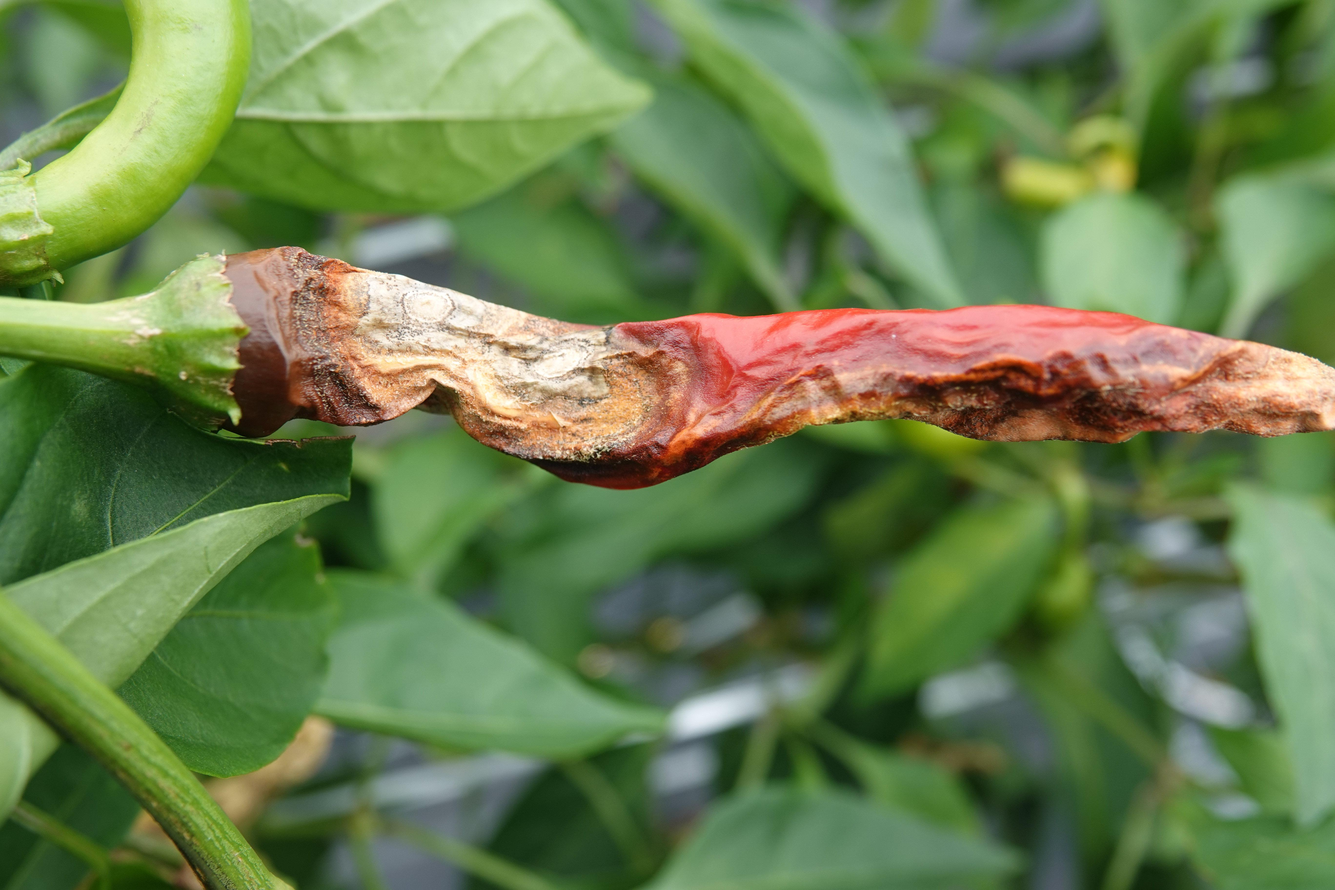Busuk Buah Antraknosa: (154, 245, 1335, 501)
